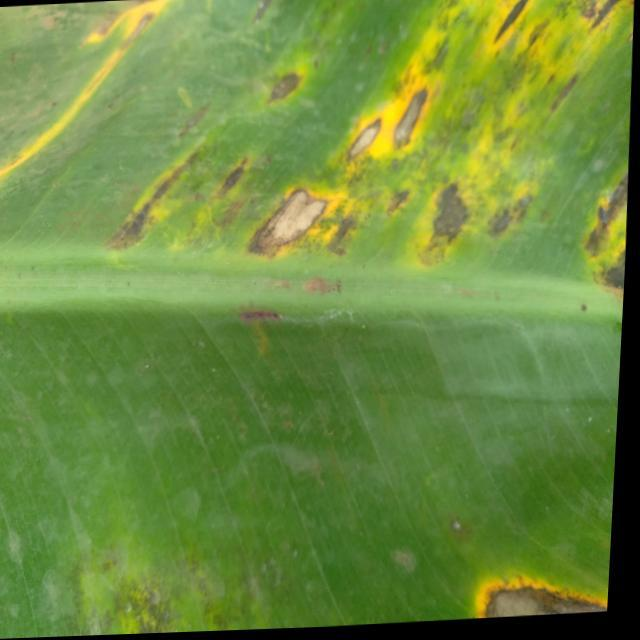Early_rust: (0, 0, 640, 310), (435, 507, 640, 640)
